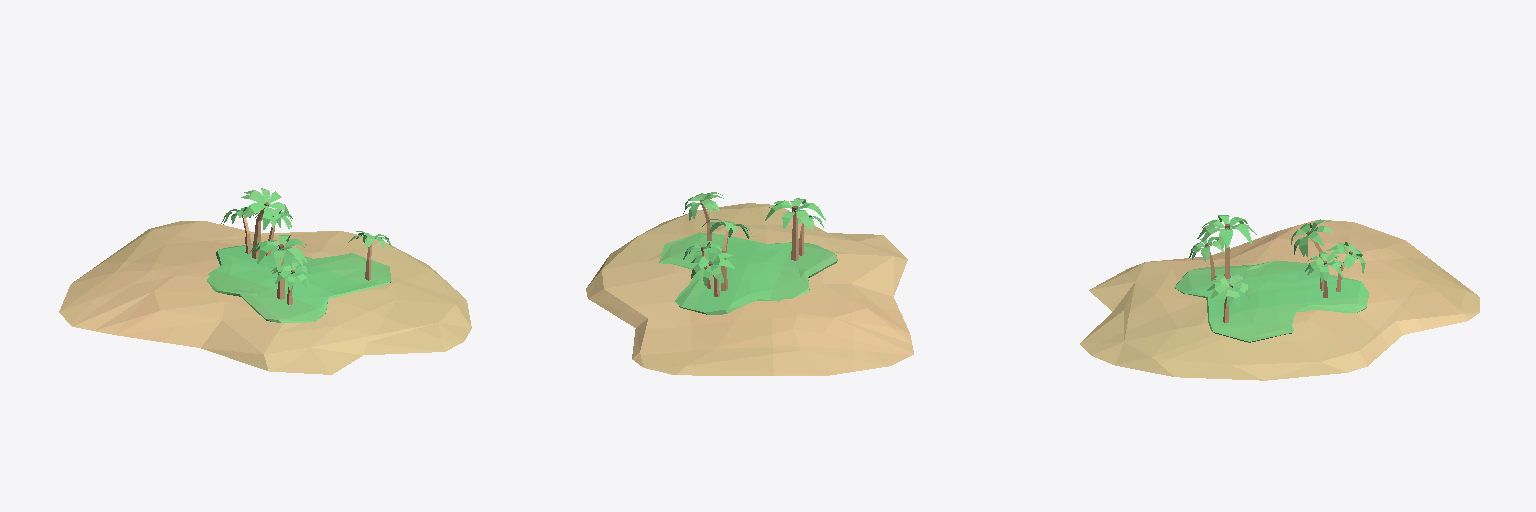
3 renders of one model, left to right at view 1: azimuth 30°, elevation 25°; view 2: azimuth 150°, elevation 25°; view 3: azimuth 270°, elevation 25°, orthographic.
Visible parts, largest first — view 1: Cube.003_Cube.002; view 2: Cube.003_Cube.002; view 3: Cube.003_Cube.002.
Boxes of the visible parts, x1=… form: Cube.003_Cube.002: x1=59, y1=188, x2=471, y2=374; Cube.003_Cube.002: x1=586, y1=192, x2=913, y2=375; Cube.003_Cube.002: x1=1080, y1=215, x2=1479, y2=380.
Size of the model in its own units: 47.54 by 12.34 by 49.93.
Materials: 1 (1 with a texture image).